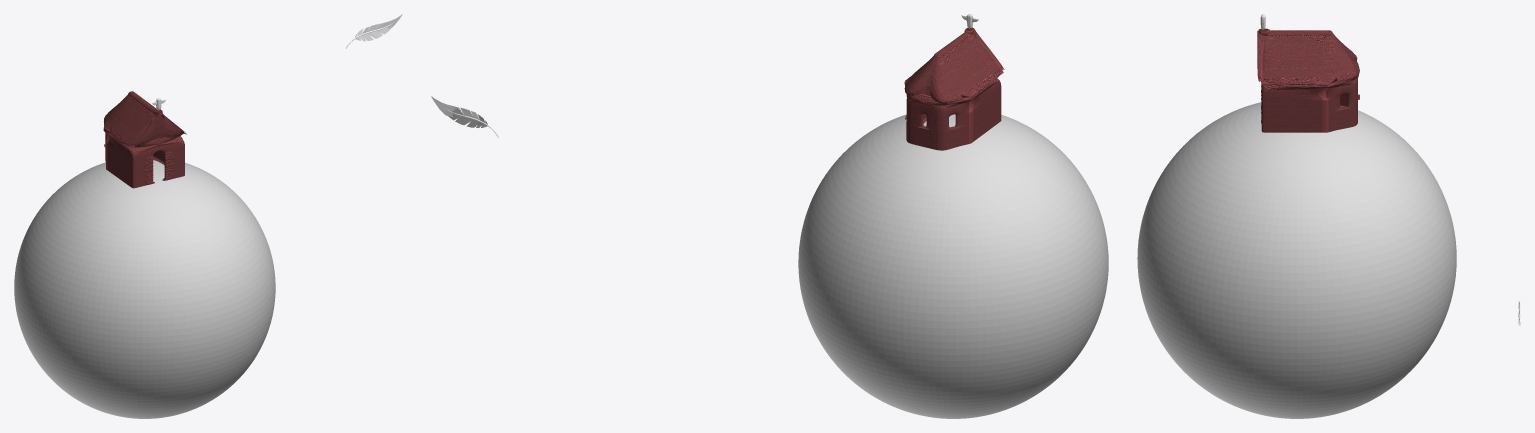
The model's file is holy_planet_v1.fbx.
3 renders of one model, left to right at view 1: azimuth 30°, elevation 25°; view 2: azimuth 150°, elevation 25°; view 3: azimuth 270°, elevation 25°, orthographic. The views are drawn at different scales.
Visible parts, largest first — view 1: planet, feather; view 2: planet, feather; view 3: planet.
Part boxes in pixels (<box>): planet: <box>14,91,275,418</box>; feather: <box>346,14,402,48</box>; planet: <box>798,14,1108,418</box>; feather: <box>431,96,498,137</box>; planet: <box>1137,14,1456,418</box>.
Size of the model in its own units: 544 by 359 by 320.
